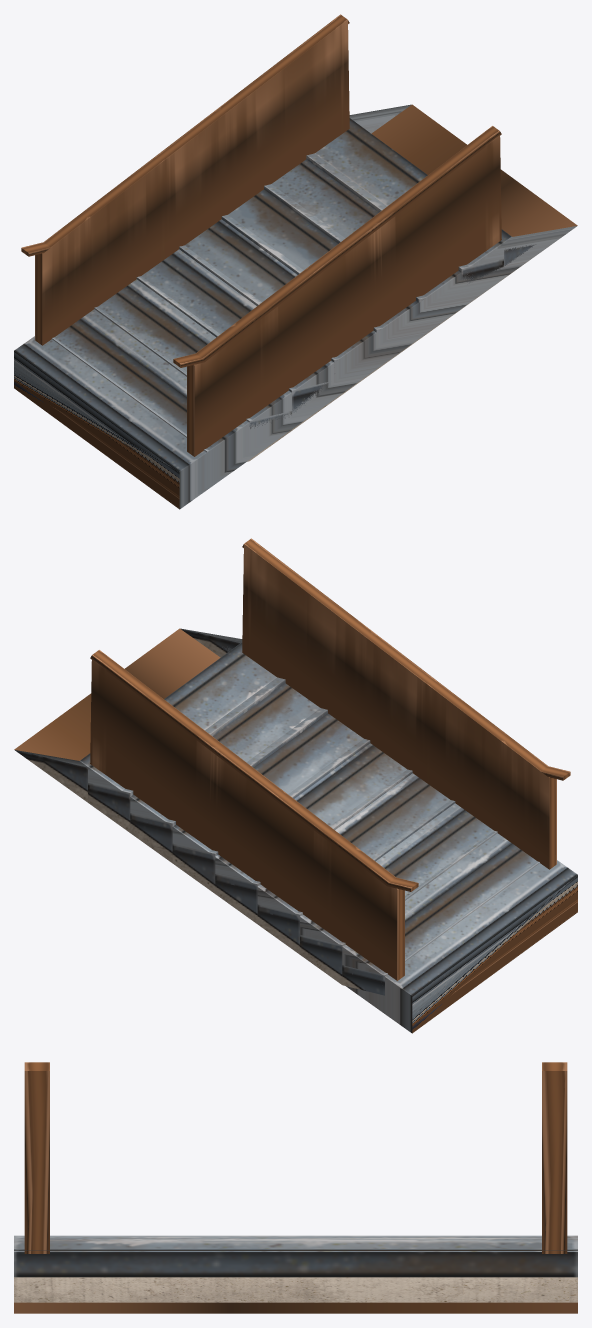
The model's file is stairs03_E.FBX.
3 views of the same model, one above another, from view 1: azimuth 30°, elevation 25°; view 2: azimuth 150°, elevation 25°; view 3: azimuth 270°, elevation 25° (orthographic). The views are drawn at different scales.
Parts seen in each view (by area): view 1: stairs03_E_COL, stairs03_E_railL_COL, stairs03_E_railR_COL, stairs03_E, stairs03_E_railR; view 2: stairs03_E_COL, stairs03_E_railR_COL, stairs03_E_railL_COL, stairs03_E, stairs03_E_railL; view 3: stairs03_E, stairs03_E_COL, stairs03_E_railL_COL, stairs03_E_railR_COL.
Boxes of the visible parts, x1,y1,x2,y2 form: stairs03_E_COL: [14, 104, 577, 509]; stairs03_E_railL_COL: [35, 14, 349, 345]; stairs03_E_railR_COL: [187, 126, 501, 456]; stairs03_E: [52, 153, 543, 461]; stairs03_E_railR: [173, 131, 501, 367]; stairs03_E_COL: [14, 628, 577, 1033]; stairs03_E_railR_COL: [242, 538, 556, 869]; stairs03_E_railL_COL: [90, 650, 404, 980]; stairs03_E: [15, 628, 539, 995]; stairs03_E_railL: [90, 655, 418, 891]; stairs03_E: [14, 1235, 577, 1302]; stairs03_E_COL: [14, 1249, 577, 1313]; stairs03_E_railL_COL: [542, 1071, 567, 1253]; stairs03_E_railR_COL: [24, 1071, 49, 1253].
Bounding box in the file's own units: 402 × 287 × 290.
